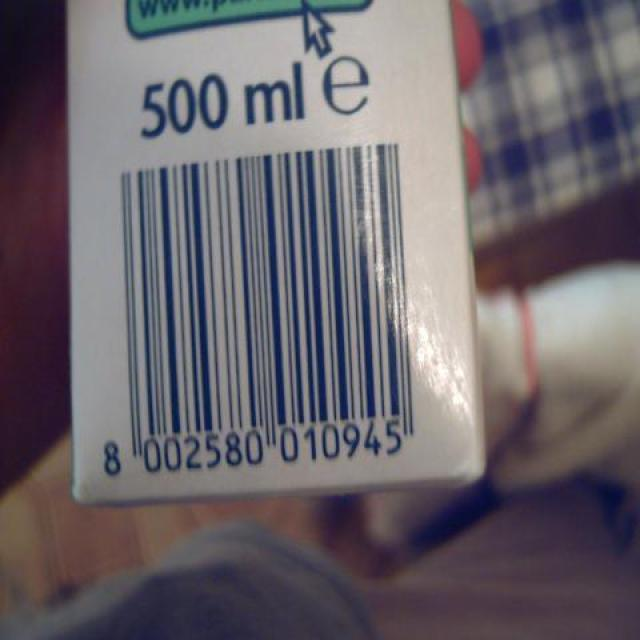Barcode: (83, 132, 433, 487)
